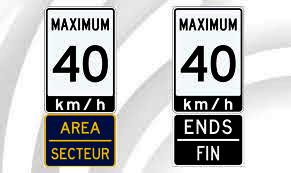speed limit sign: (44, 7, 116, 114), (172, 8, 243, 113)
